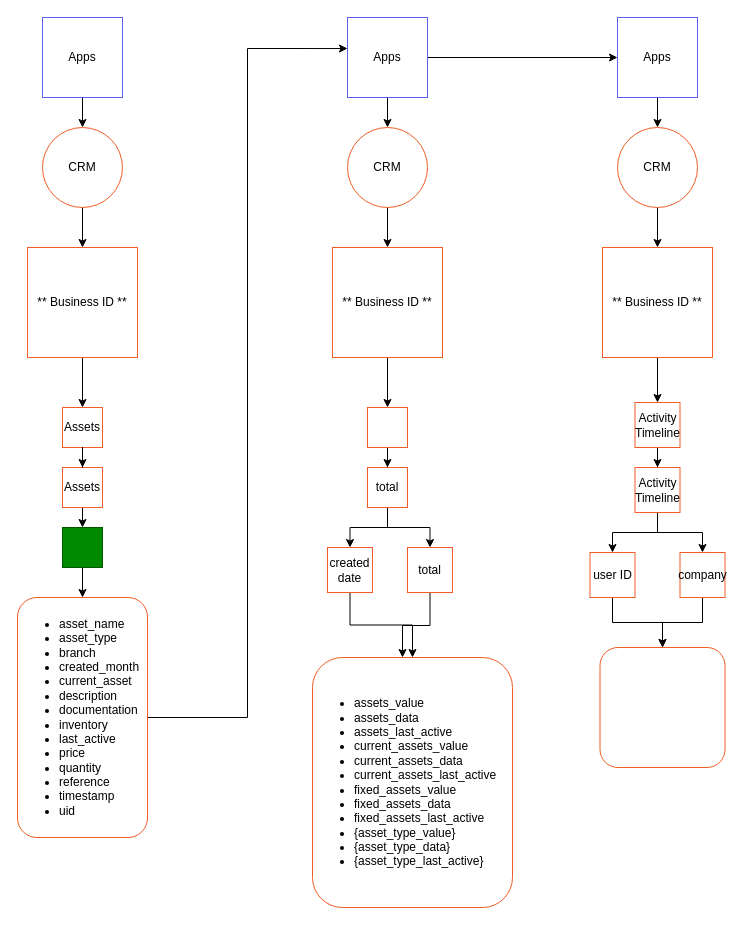
The diagram is 744 pixels wide and 925 high, and some of its shapes have lost their labels. Each missing label, with the box of its shape:
** Assets ID **: (62, 526, 102, 568)
assetID asset_type created_date reference activity type book entries: (599, 646, 725, 768)
stats: (366, 406, 408, 448)
